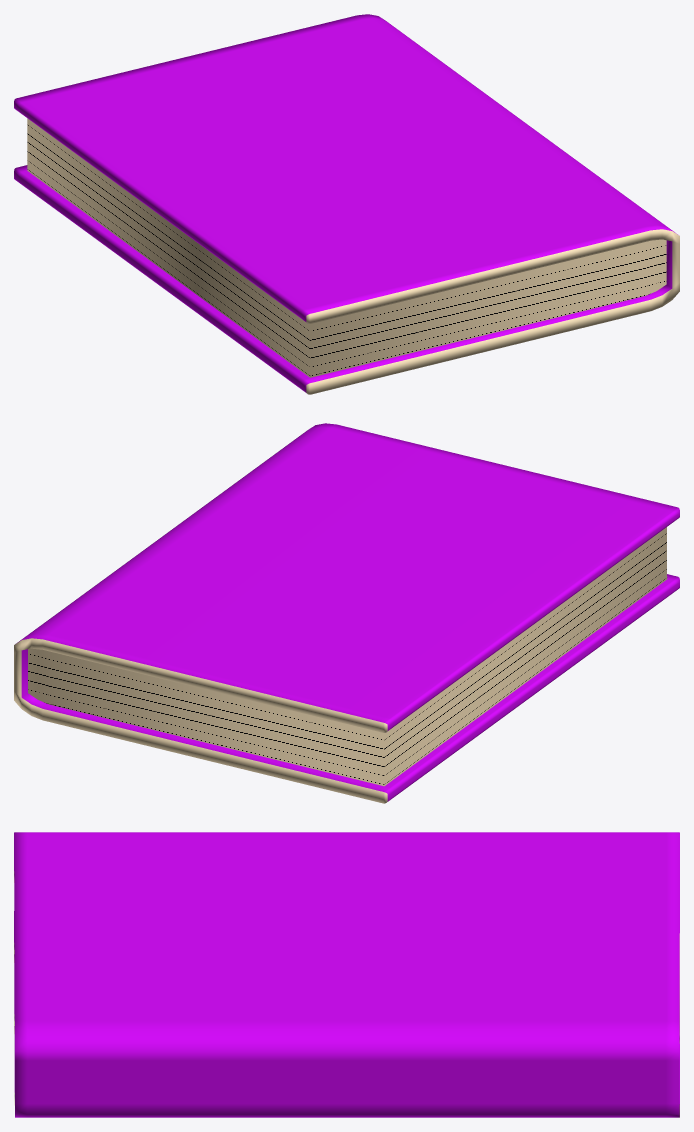
Rendered from book-purple.fbx.
3 views of the same model, one above another, from view 1: azimuth 30°, elevation 25°; view 2: azimuth 150°, elevation 25°; view 3: azimuth 270°, elevation 25° (orthographic). The views are drawn at different scales.
Visible parts, largest first — view 1: book_purple; view 2: book_purple; view 3: book_purple.
Part boxes in pixels (x1,y1,x2,y2): book_purple: [14, 14, 679, 394]; book_purple: [14, 423, 679, 803]; book_purple: [14, 832, 679, 1117].
Size of the model in its own units: 8.66 by 1.79 by 11.81.
Materials: 1 (1 with a texture image).
